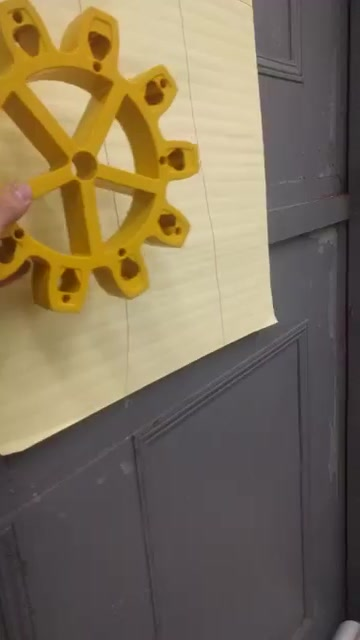gear: (2, 1, 209, 320)
